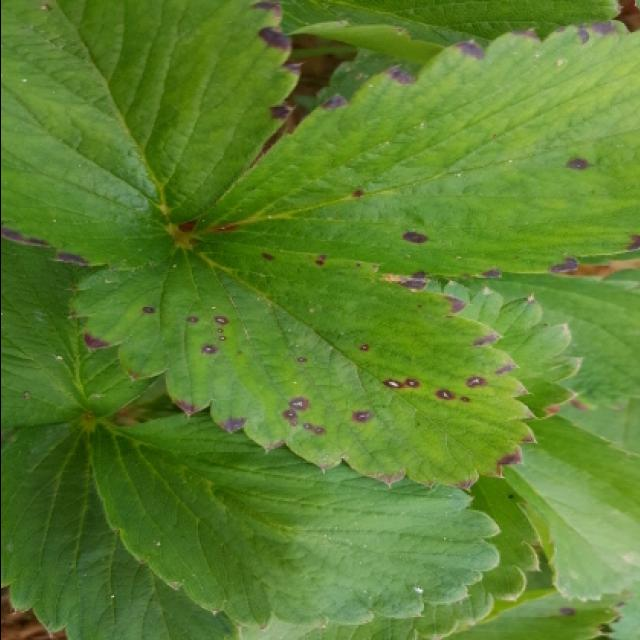Leaf Spot: (188, 16, 640, 279), (69, 240, 537, 493)
